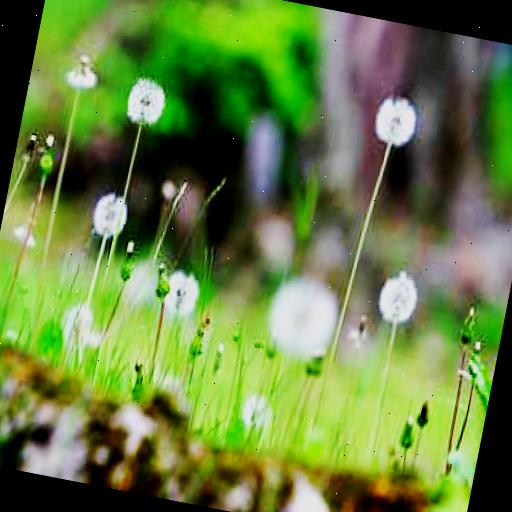dandelion: (374, 270, 422, 324), (372, 93, 420, 145), (124, 72, 168, 126), (92, 190, 129, 240), (162, 270, 202, 316)
